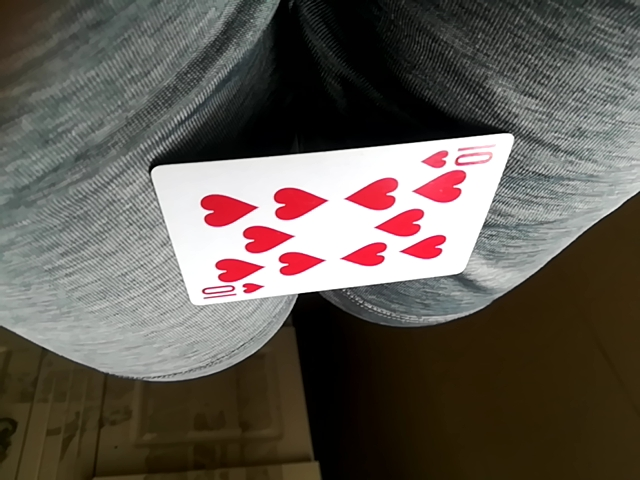hx 10: (149, 135, 510, 303)
